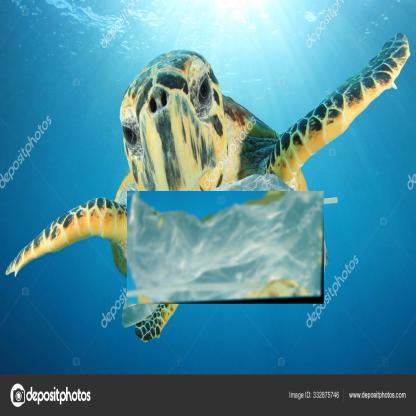plastic-bag: (127, 191, 325, 305)
